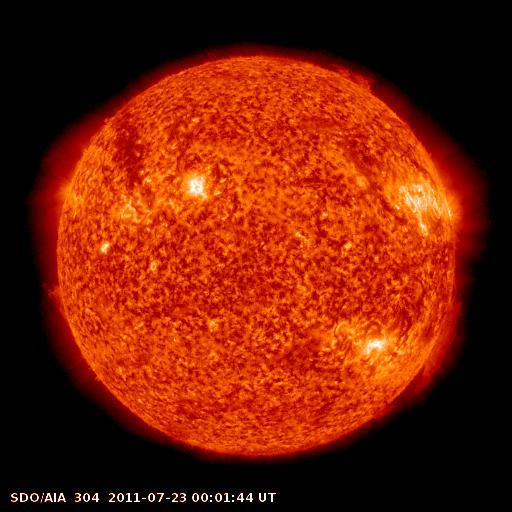prominence: (370, 290, 473, 419), (38, 276, 75, 327), (329, 55, 378, 93)
